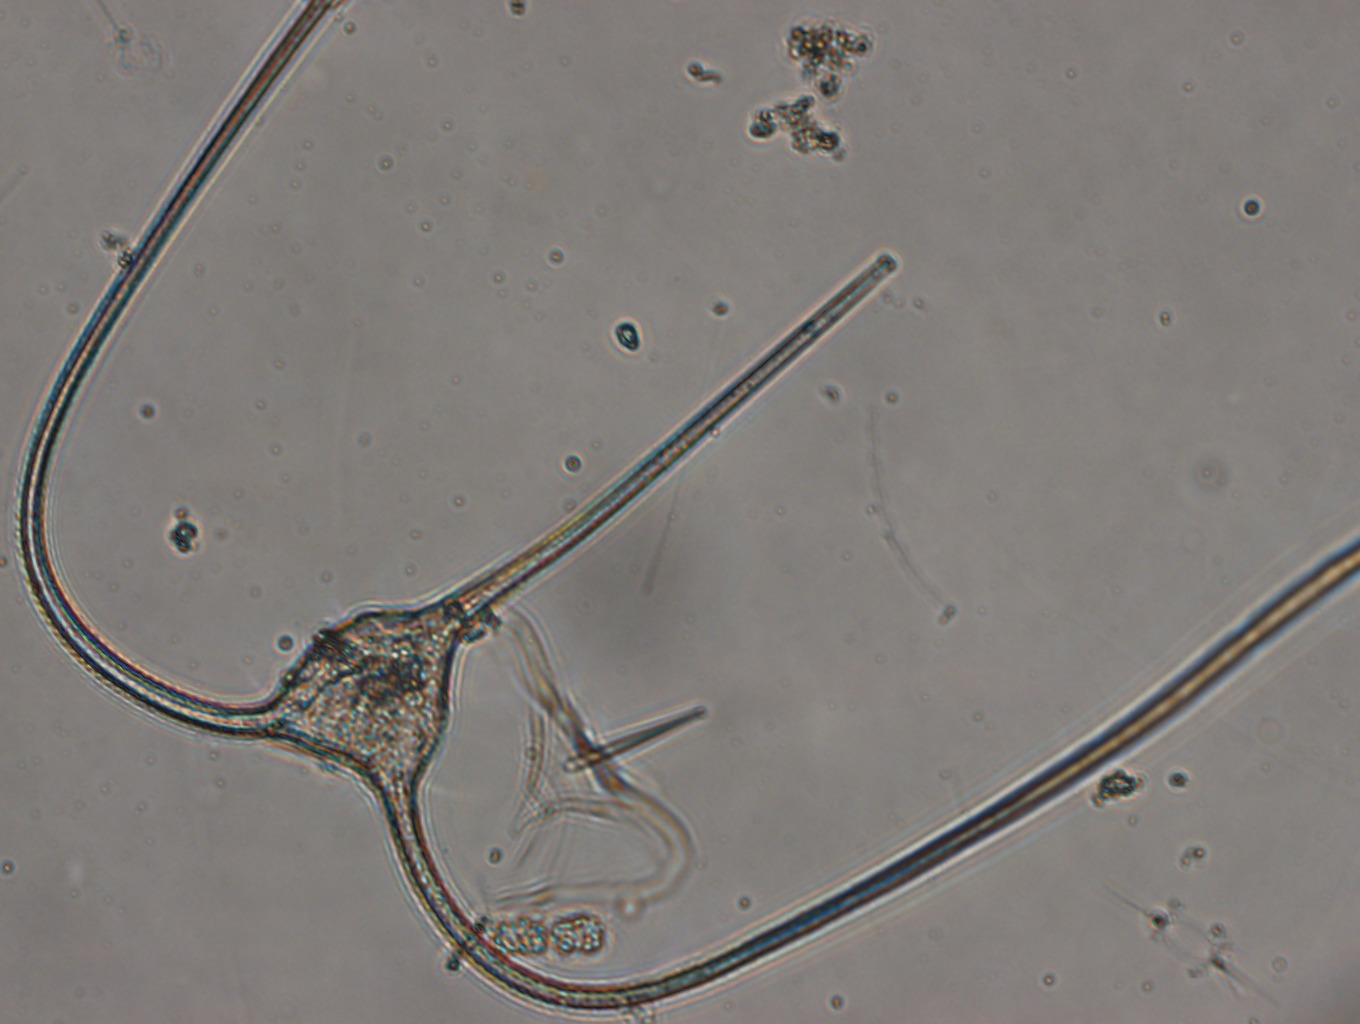ceratium trichoceros: (17, 1, 1360, 1015)
